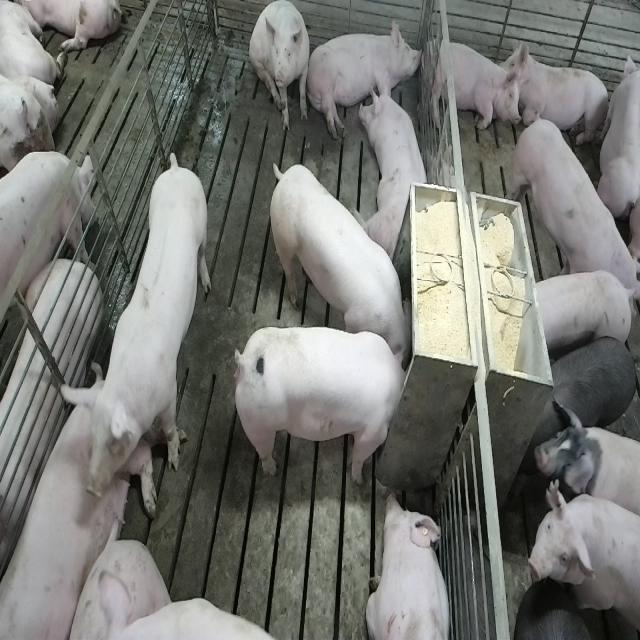Feeding: (264, 160, 412, 364), (239, 324, 416, 486)
Lateral_lying: (306, 15, 424, 142)
Sitting: (250, 1, 312, 134)
Standing: (56, 158, 211, 488), (506, 115, 636, 304), (0, 152, 95, 348), (525, 477, 638, 640), (524, 335, 638, 469), (534, 400, 640, 538), (531, 269, 634, 351)
Sternal_lying: (362, 68, 433, 260), (365, 489, 452, 640), (508, 41, 612, 152), (424, 34, 519, 134)
